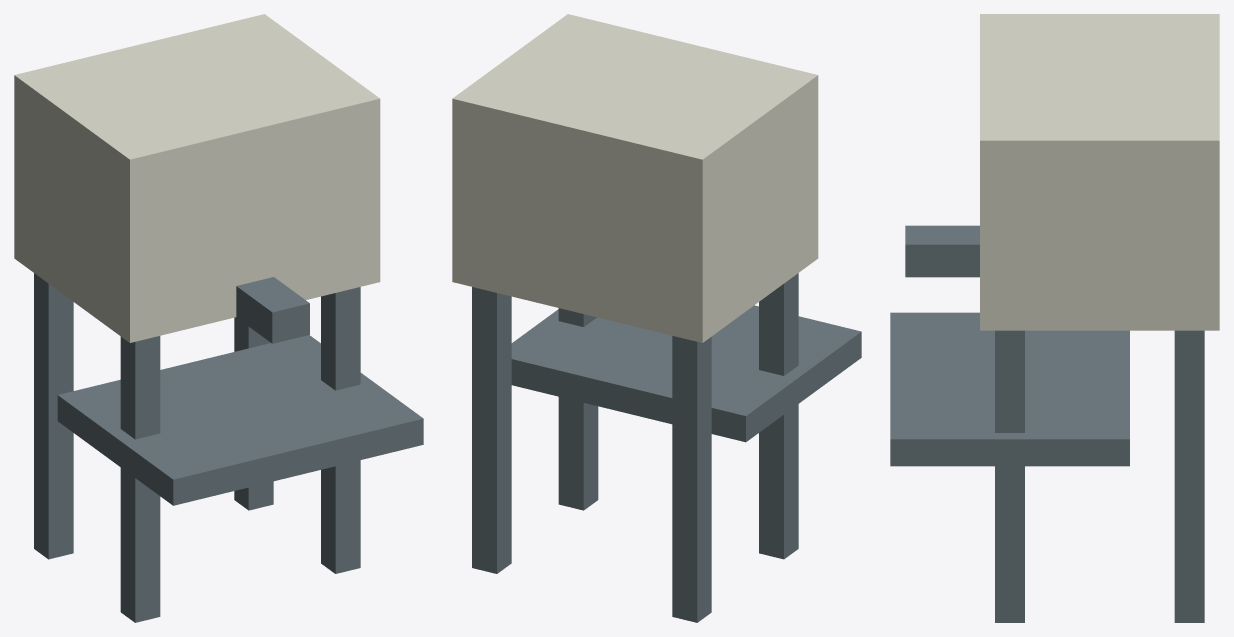
Rendered from zombie-quarantine-streets-handwash-tank-aa98038e__19345.glb.
3 views of the same model, side by side, from view 1: azimuth 30°, elevation 25°; view 2: azimuth 150°, elevation 25°; view 3: azimuth 270°, elevation 25° (orthographic). The views are drawn at different scales.
Parts seen in each view (by area): view 1: handwash-tank; view 2: handwash-tank; view 3: handwash-tank.
Boxes of the visible parts, left/top/right/bottom form: handwash-tank: left=14, top=14, right=423, bottom=622; handwash-tank: left=452, top=14, right=861, bottom=622; handwash-tank: left=890, top=14, right=1219, bottom=622.
Bounding box in the file's own units: 1 × 1.8 × 1.1.
